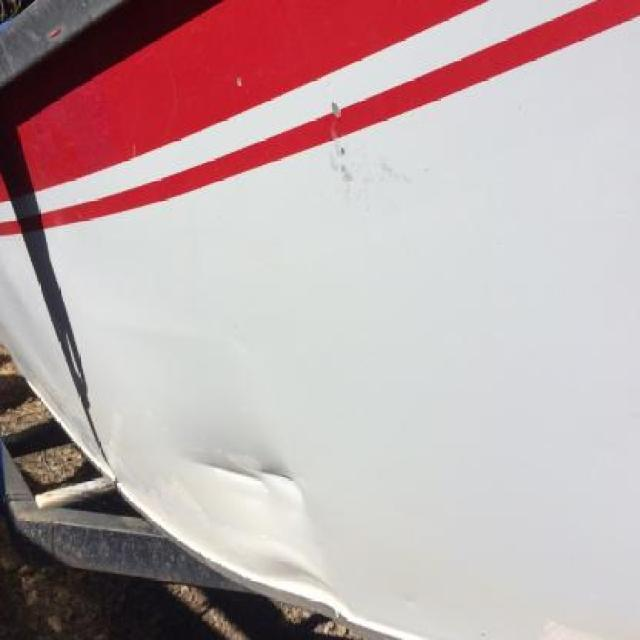dent: (267, 551, 354, 628), (188, 449, 308, 497)
